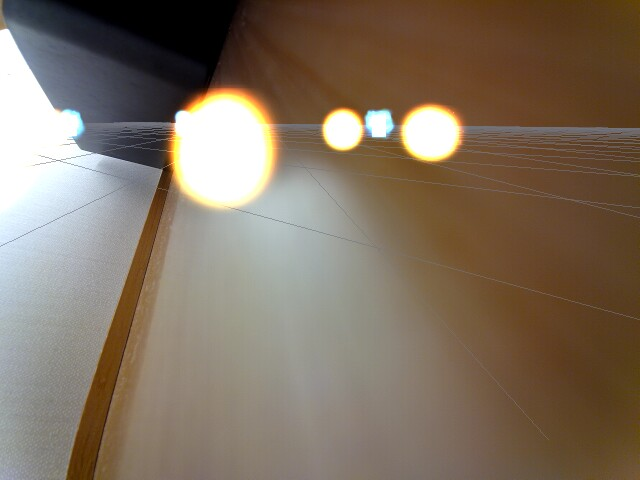firebig: (181, 82, 279, 211)
